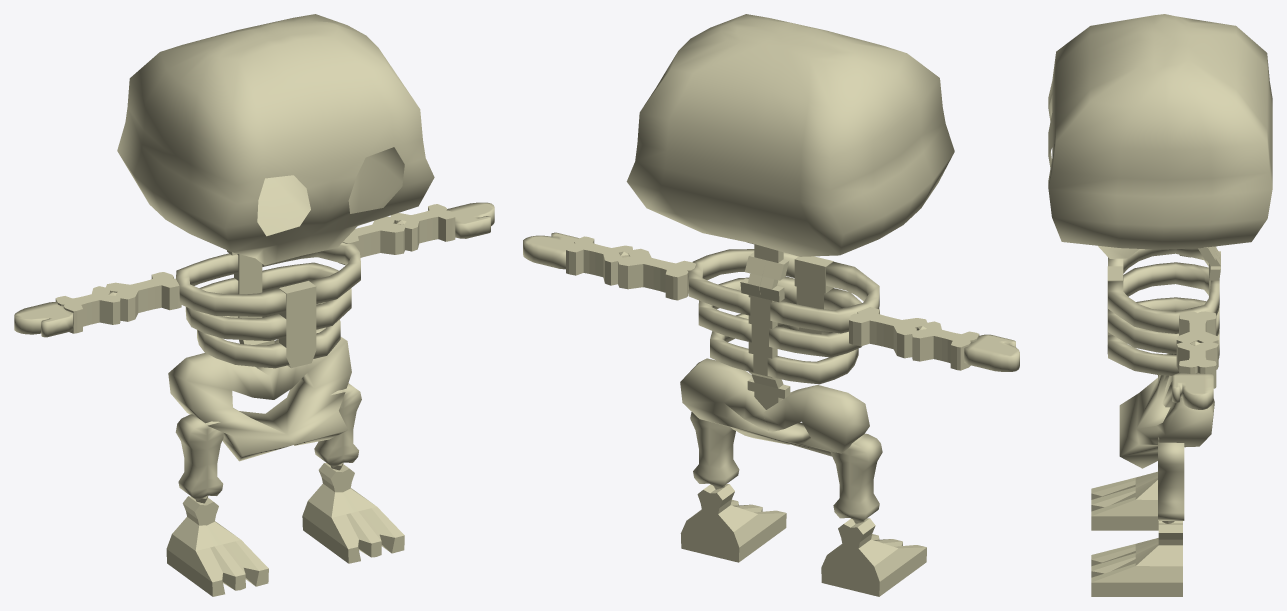
The model's file is calaveraCabezaPequenaPegada.fbx.
3 views of the same model, side by side, from view 1: azimuth 30°, elevation 25°; view 2: azimuth 150°, elevation 25°; view 3: azimuth 270°, elevation 25° (orthographic). The views are drawn at different scales.
Visible parts, largest first — view 1: Skeleton; view 2: Skeleton; view 3: Skeleton.
Boxes of the visible parts, box(x1,y1,x2,y2) form: Skeleton: box(14, 14, 494, 596); Skeleton: box(523, 14, 1019, 596); Skeleton: box(1048, 14, 1272, 596).
Size of the model in its own units: 490 by 503 by 199.
